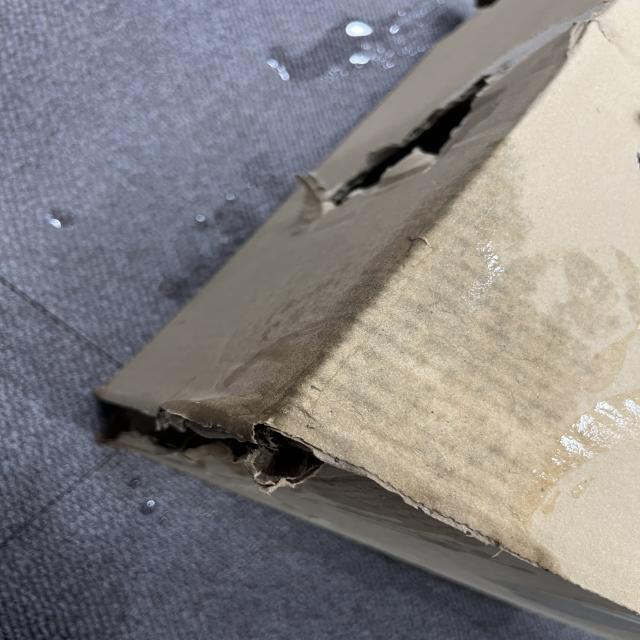hole: (299, 82, 502, 194), (86, 384, 249, 466)
wet: (273, 225, 597, 519)
